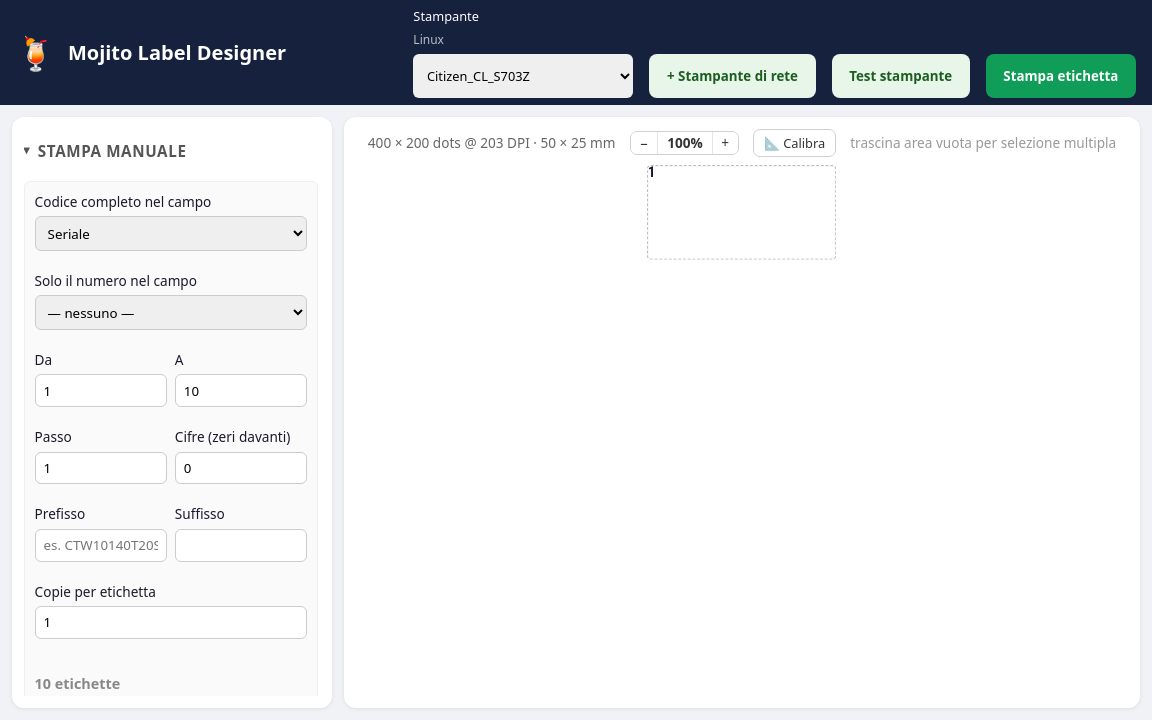
Test: LabelDesigner: dove stampare › stampando su un PC dice che l'etichetta e' in coda per il suo agente
Step 1. Select "SURFACE9 · Citizen CL-S703" in the dropdown labelled "Stampante Linux" → point(523, 76), box [413,54,633,98]
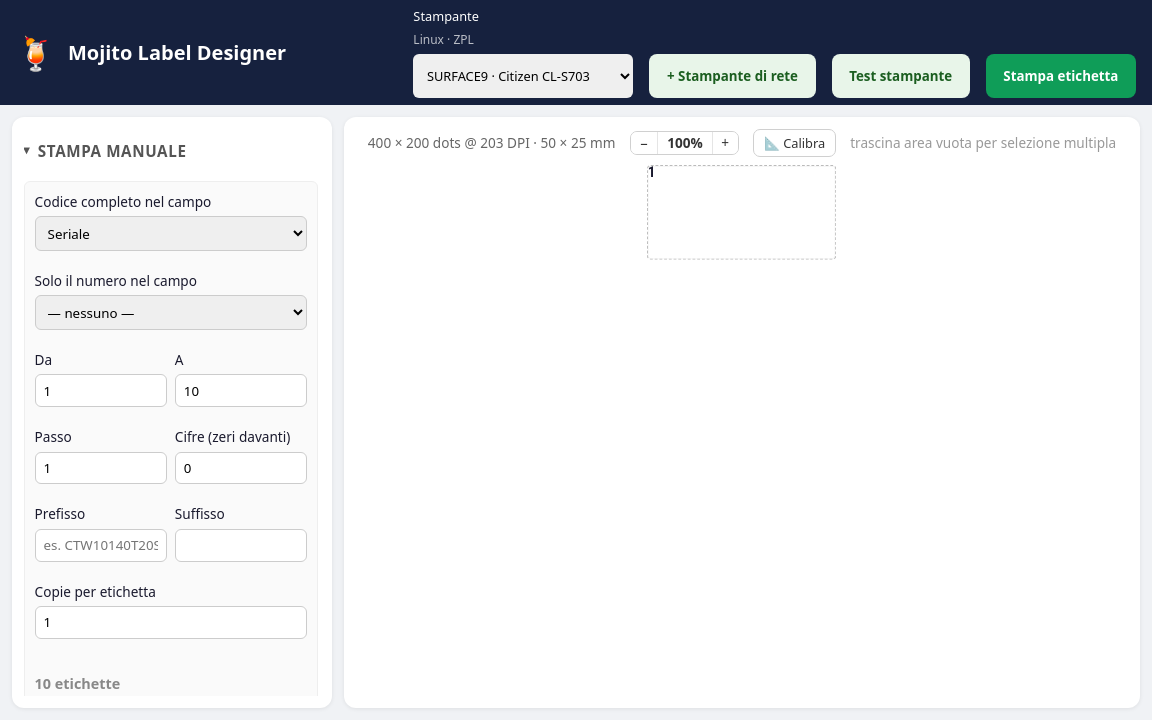
Step 2. Click the button "Stampa etichetta" → point(1061, 76), box [986,54,1136,98]
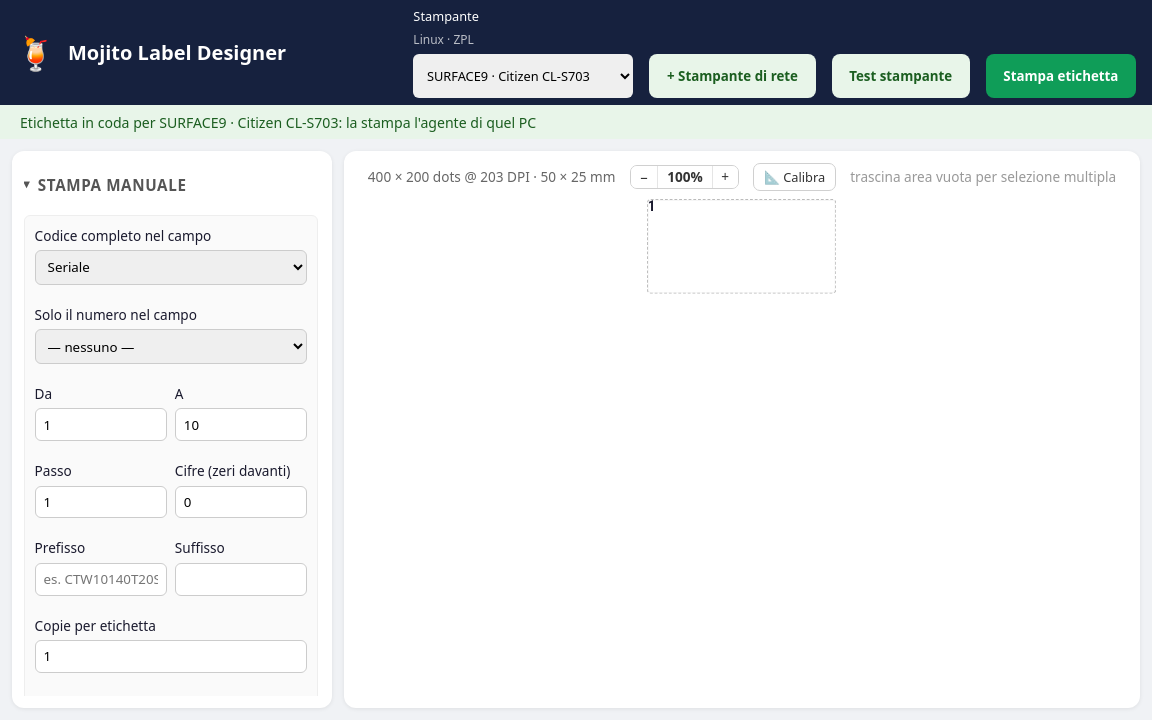
Expected: the text "Etichetta in coda per SURFACE9 · Citizen CL-S703: la stampa l'agente di quel PC" is shown, [20,112,536,132]
